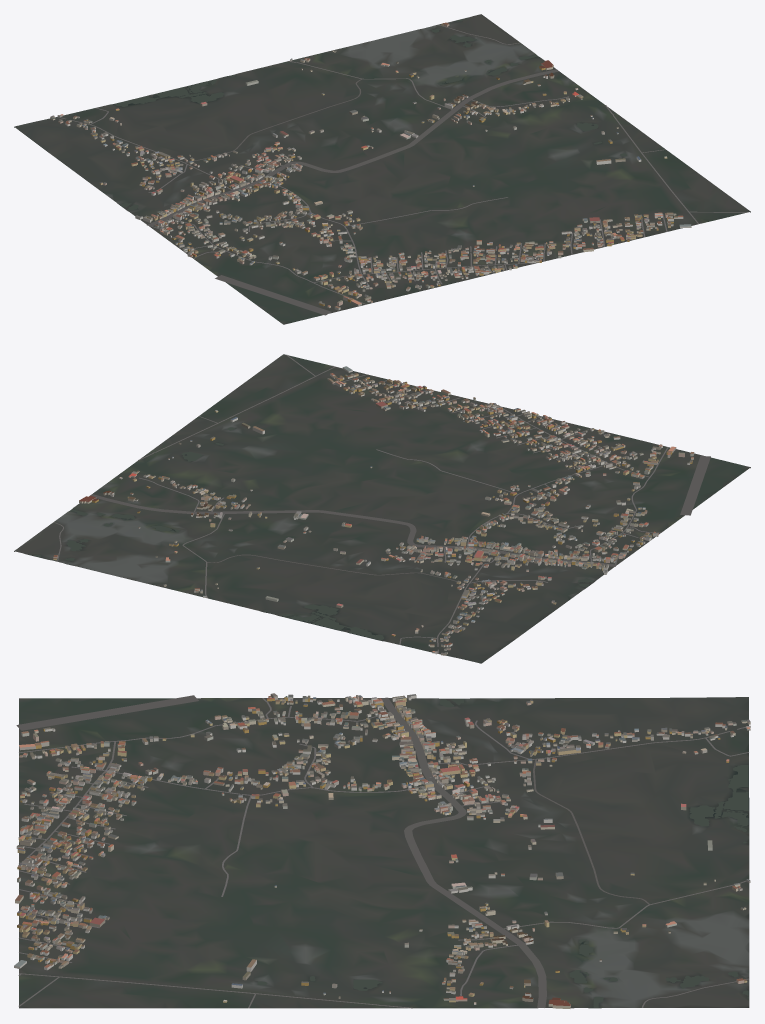
The picture shows the model from 3 angles, top to bottom: view 1: azimuth 30°, elevation 25°; view 2: azimuth 150°, elevation 25°; view 3: azimuth 270°, elevation 25°; orthographic projection. The views are drawn at different scales.
Parts seen in each view (by area): view 1: ground, buildings, roads, water; view 2: ground, buildings, roads, water; view 3: ground, buildings, roads, water.
Part boxes in pixels (x1,y1,x2,y2): ground: (14,14,750,324); buildings: (50,22,691,310); roads: (57,24,747,315); water: (114,17,627,210); ground: (14,354,750,663); buildings: (53,366,694,655); roads: (53,355,710,653); water: (28,427,592,640); ground: (19,697,749,1008); buildings: (14,693,750,1008); roads: (16,695,748,1008); water: (257,698,748,1007).
Size of the model in its own units: 1420 by 17.58 by 1415.
